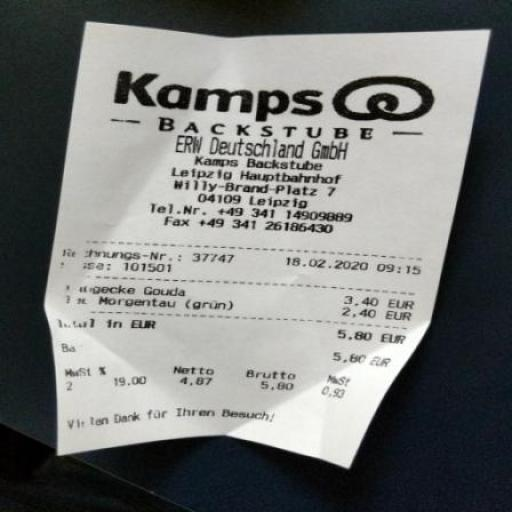paper: (26, 3, 512, 512)
